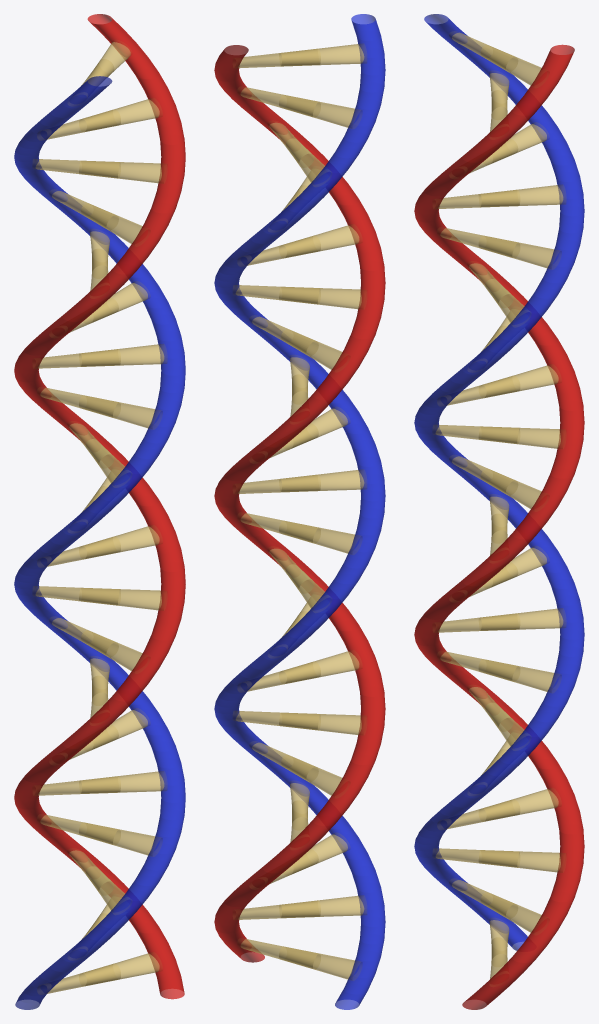
Rendered from DNAColors.fbx.
The picture shows the model from 3 angles, left to right: view 1: azimuth 30°, elevation 25°; view 2: azimuth 150°, elevation 25°; view 3: azimuth 270°, elevation 25°; orthographic projection.
Visible parts, largest first — view 1: Cylinder.002, Cylinder, Cylinder.001; view 2: Cylinder.002, Cylinder.001, Cylinder; view 3: Cylinder.002, Cylinder, Cylinder.001.
Part boxes in pixels (left/top/right/bottom): Cylinder.002: left=33, top=42, right=166, bottom=994; Cylinder: left=14, top=14, right=185, bottom=999; Cylinder.001: left=14, top=76, right=185, bottom=1009; Cylinder.002: left=233, top=43, right=366, bottom=980; Cylinder.001: left=214, top=14, right=385, bottom=1009; Cylinder: left=214, top=45, right=385, bottom=962; Cylinder.002: left=433, top=31, right=565, bottom=978; Cylinder: left=414, top=44, right=584, bottom=1009; Cylinder.001: left=414, top=14, right=584, bottom=950.
Size of the model in its own units: 704 by 4292 by 704.
